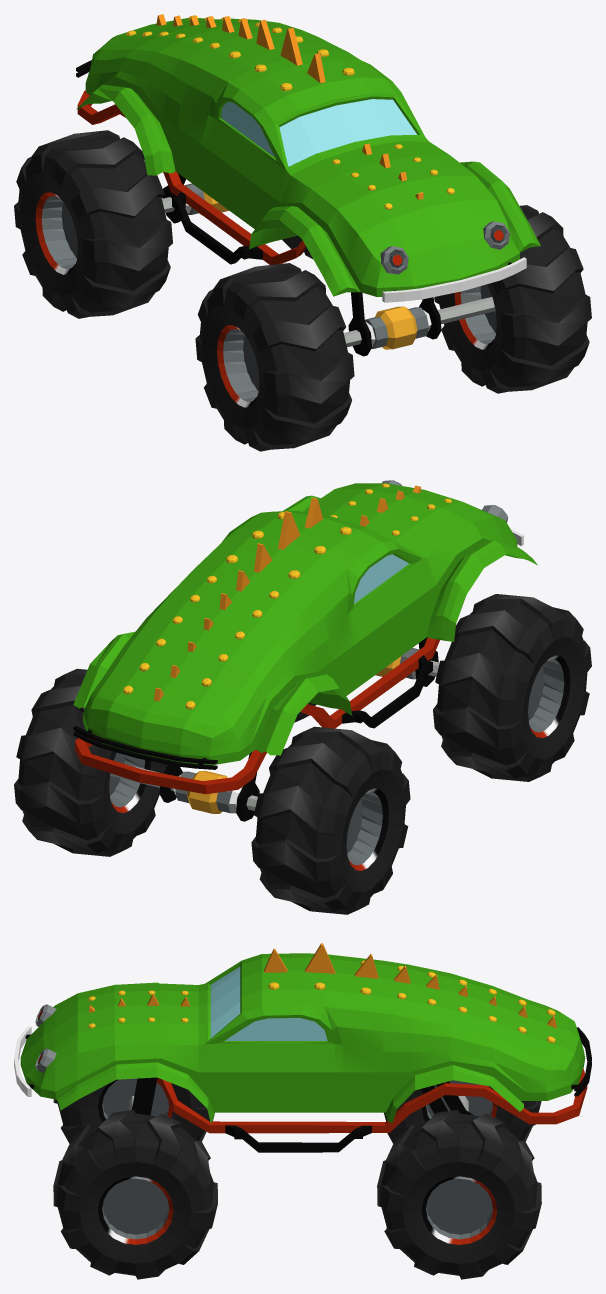
The model's file is truck 10.fbx.
The picture shows the model from 3 angles, top to bottom: view 1: azimuth 30°, elevation 25°; view 2: azimuth 150°, elevation 25°; view 3: azimuth 270°, elevation 25°; orthographic projection. The views are drawn at different scales.
Visible parts, largest first — view 1: Monster_Truck_Body_3_Dino_0, Wheel_FR_3_Dino_0, Wheel_FR_3_Dino_0.002, Wheel_FR_3_Dino_0.001; view 2: Monster_Truck_Body_3_Dino_0, Wheel_FR_3_Dino_0.002, Wheel_FR_3_Dino_0, Wheel_FR_3_Dino_0.003; view 3: Monster_Truck_Body_3_Dino_0, Wheel_FR_3_Dino_0.001, Wheel_FR_3_Dino_0.003, Wheel_FR_3_Dino_0, Wheel_FR_3_Dino_0.002.
Part boxes in pixels (x1,y1,x2,y2): Monster_Truck_Body_3_Dino_0: [76, 14, 540, 356]; Wheel_FR_3_Dino_0: [195, 263, 354, 451]; Wheel_FR_3_Dino_0.002: [14, 130, 172, 318]; Wheel_FR_3_Dino_0.001: [434, 205, 591, 393]; Monster_Truck_Body_3_Dino_0: [73, 480, 537, 821]; Wheel_FR_3_Dino_0.002: [251, 726, 410, 914]; Wheel_FR_3_Dino_0: [433, 594, 591, 781]; Wheel_FR_3_Dino_0.003: [14, 668, 167, 856]; Monster_Truck_Body_3_Dino_0: [14, 943, 591, 1152]; Wheel_FR_3_Dino_0.001: [53, 1109, 217, 1279]; Wheel_FR_3_Dino_0.003: [377, 1109, 541, 1279]; Wheel_FR_3_Dino_0: [53, 1078, 213, 1143]; Wheel_FR_3_Dino_0.002: [384, 1080, 541, 1143].
Bounding box in the file's own units: 33.63 × 30.69 × 58.85.
1 material, 1 textured.
